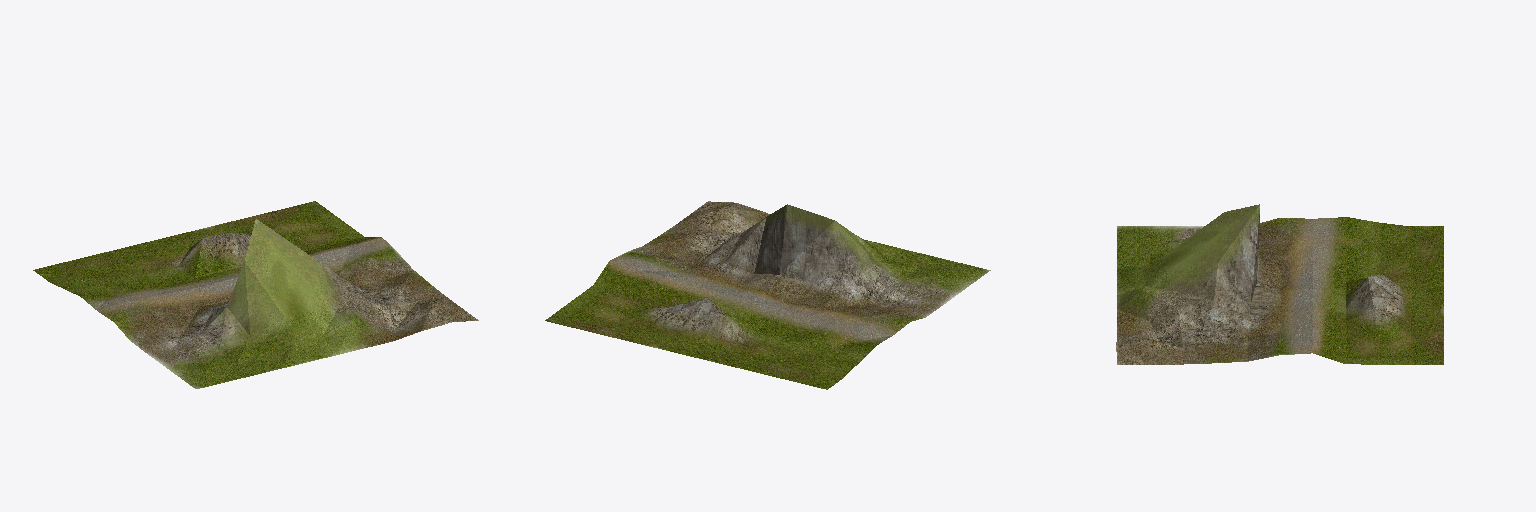
3 views of the same model, side by side, from view 1: azimuth 30°, elevation 25°; view 2: azimuth 150°, elevation 25°; view 3: azimuth 270°, elevation 25° (orthographic).
Visible parts, largest first — view 1: Terra; view 2: Terra; view 3: Terra.
Boxes of the visible parts, x1,y1,x2,y2 form: Terra: [33, 201, 478, 388]; Terra: [545, 201, 990, 389]; Terra: [1116, 204, 1443, 364].
Size of the model in its own units: 22.66 by 7.15 by 22.57.
Materials: 1 (1 with a texture image).